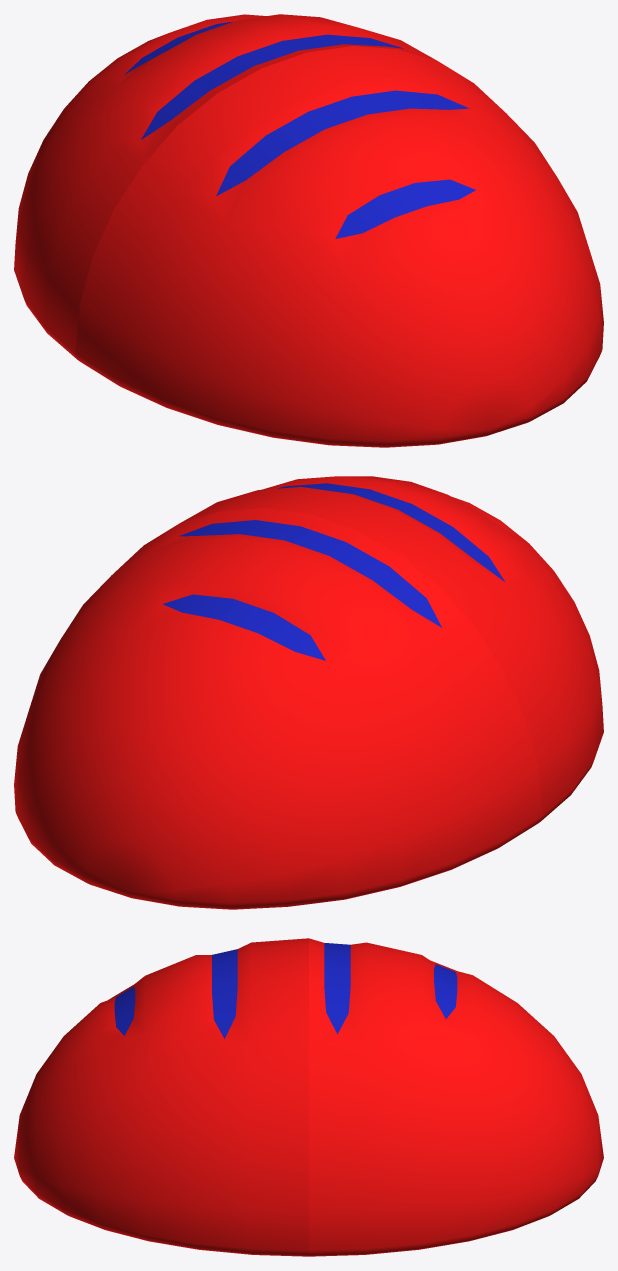
File: bread.fbx
3 renders of one model, top to bottom at view 1: azimuth 30°, elevation 25°; view 2: azimuth 150°, elevation 25°; view 3: azimuth 270°, elevation 25°, orthographic. The views are drawn at different scales.
Visible parts, largest first — view 1: breadHalf02, breadHalf01; view 2: breadHalf01, breadHalf02; view 3: breadHalf01, breadHalf02.
Boxes of the visible parts, <box> form: breadHalf02: <box>75,46,603,447</box>; breadHalf01: <box>14,14,437,359</box>; breadHalf01: <box>14,508,542,909</box>; breadHalf02: <box>180,476,603,821</box>; breadHalf01: <box>309,938,603,1256</box>; breadHalf02: <box>14,938,308,1256</box>.
Bounding box in the file's own units: 60.07 × 31.3 × 80.81.
